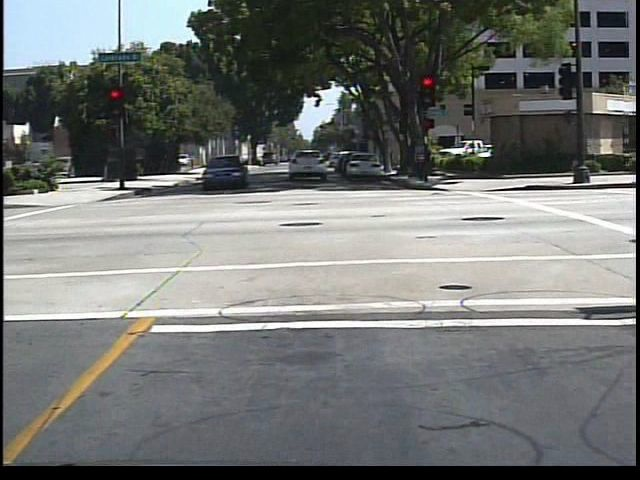person: (414, 137, 432, 185)
